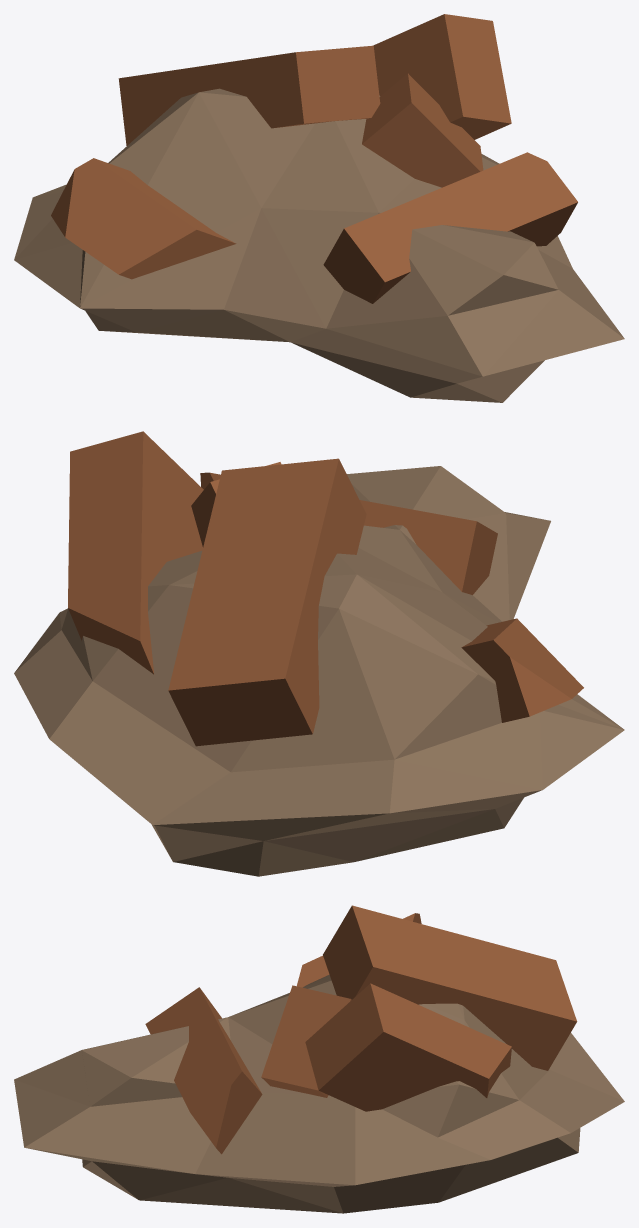
The model's file is LP_PostApoc_SmallBrickPile.fbx.
3 renders of one model, top to bottom at view 1: azimuth 30°, elevation 25°; view 2: azimuth 150°, elevation 25°; view 3: azimuth 270°, elevation 25°, orthographic. The views are drawn at different scales.
Parts seen in each view (by area): view 1: SmallBrickPile; view 2: SmallBrickPile; view 3: SmallBrickPile.
Part boxes in pixels (x1,y1,x2,y2): SmallBrickPile: (14,14,624,402); SmallBrickPile: (14,431,624,876); SmallBrickPile: (14,905,624,1213).
Bounding box in the file's own units: 82.15 × 48.46 × 101.
